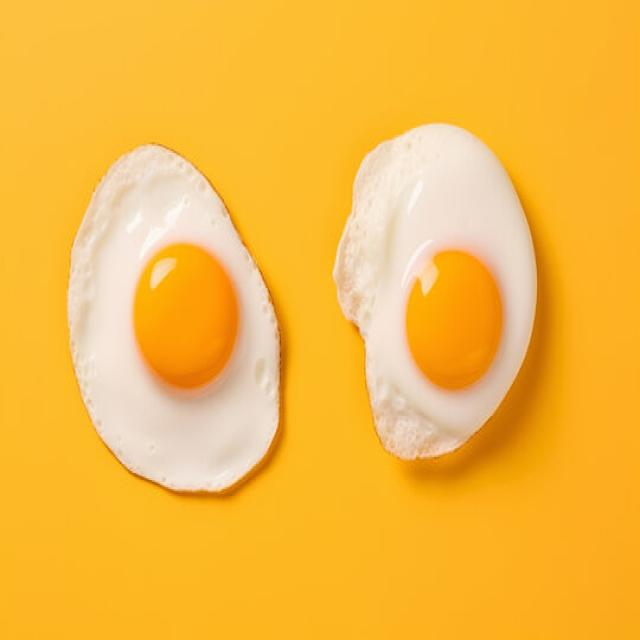Egg: (68, 146, 280, 491), (334, 126, 535, 458)
